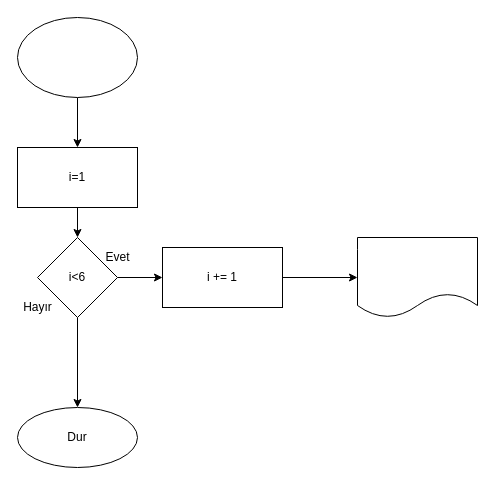
Image size: 495x485. Some labels were removed from this diagram. The centre of each missing label's shape, as x and y in pixels:
Başla: point 77,57
Merhaba Dünya + i: point 417,277
